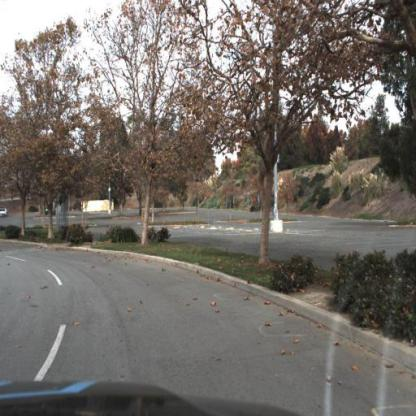car: (46, 204, 64, 217), (1, 209, 8, 220)
